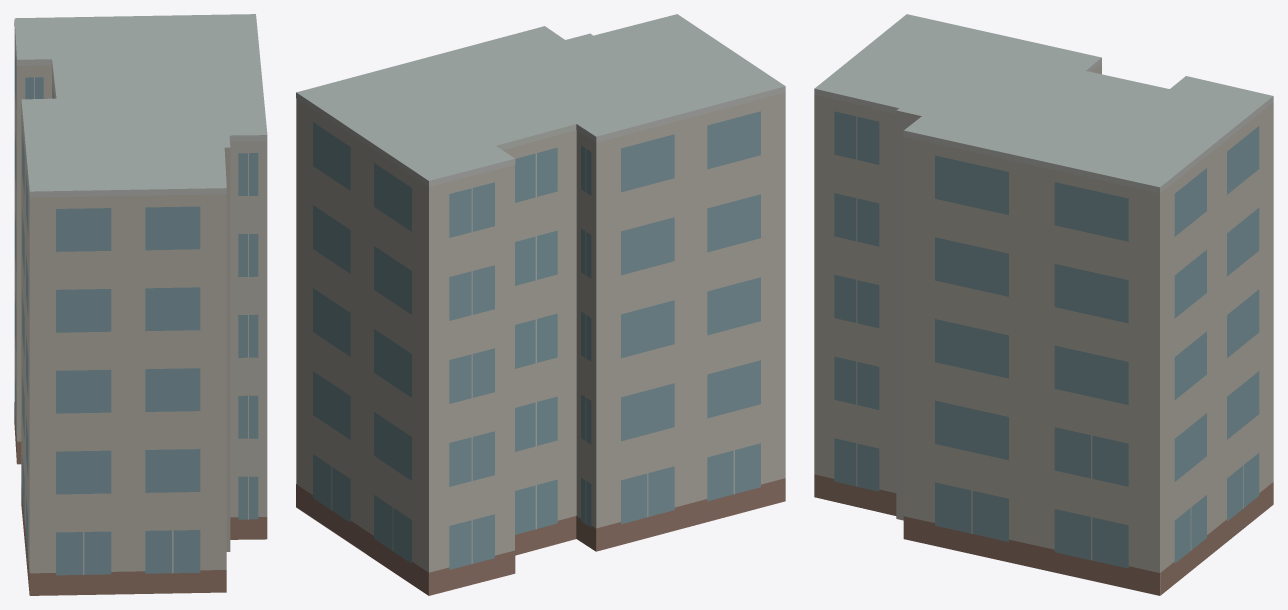
The model's file is survey-upis-32658460.glb.
3 renders of one model, left to right at view 1: azimuth 30°, elevation 25°; view 2: azimuth 150°, elevation 25°; view 3: azimuth 270°, elevation 25°, orthographic. The views are drawn at different scales.
Parts seen in each view (by area): view 1: survey-upis-32658460.tmp; view 2: survey-upis-32658460.tmp; view 3: survey-upis-32658460.tmp.
Boxes of the visible parts, x1,y1,x2,y2 form: survey-upis-32658460.tmp: (14, 14, 267, 595); survey-upis-32658460.tmp: (296, 14, 785, 595); survey-upis-32658460.tmp: (814, 14, 1273, 595).
Size of the model in its own units: 15.02 by 16.5 by 16.82.
